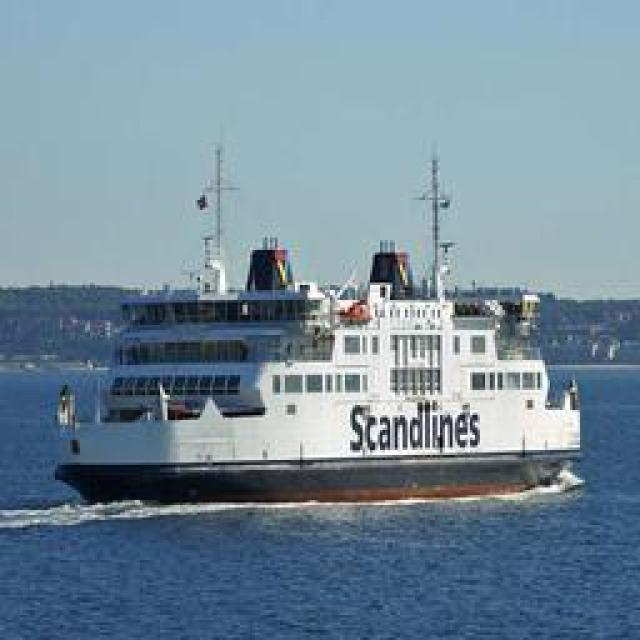CIV_Ship: (39, 115, 616, 498)
